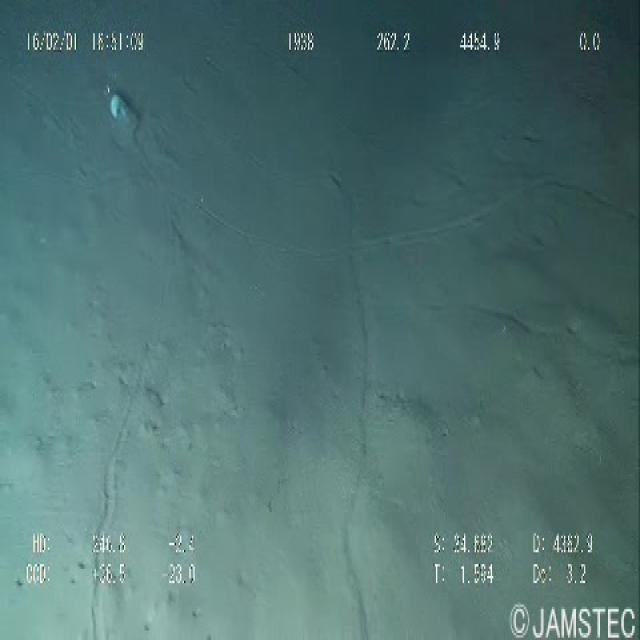plastic: (95, 74, 164, 144)
